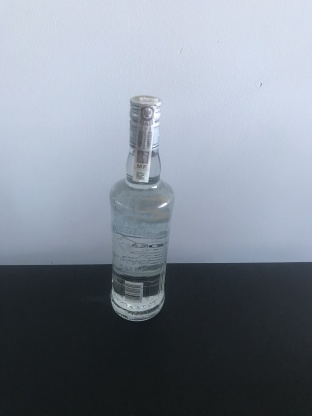nakretka: (127, 91, 163, 150)
